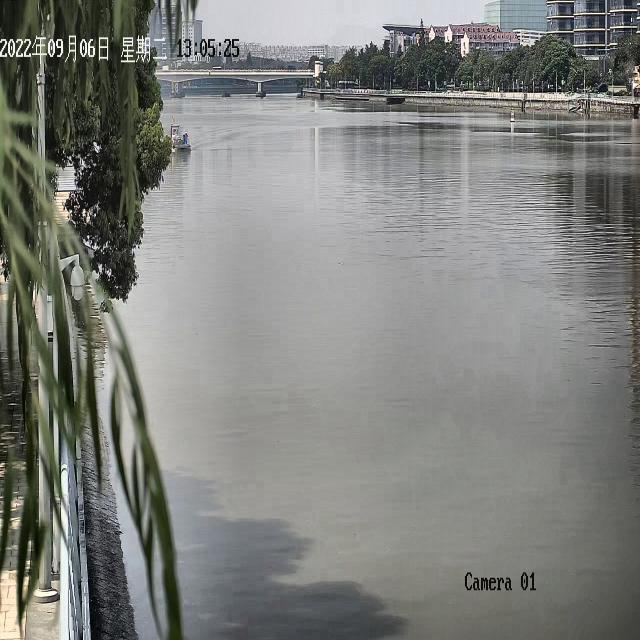ship: (168, 113, 190, 150), (220, 88, 230, 96)
